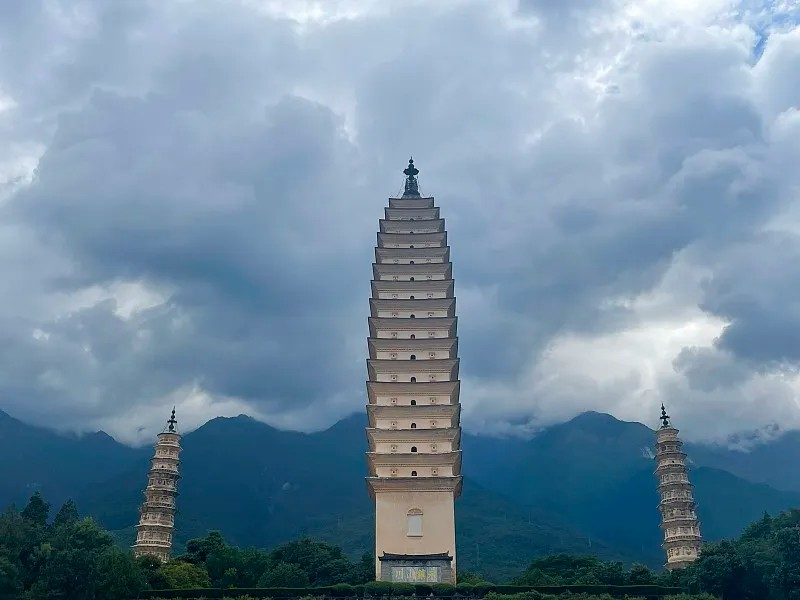ThreePagoda: (365, 155, 464, 582)
